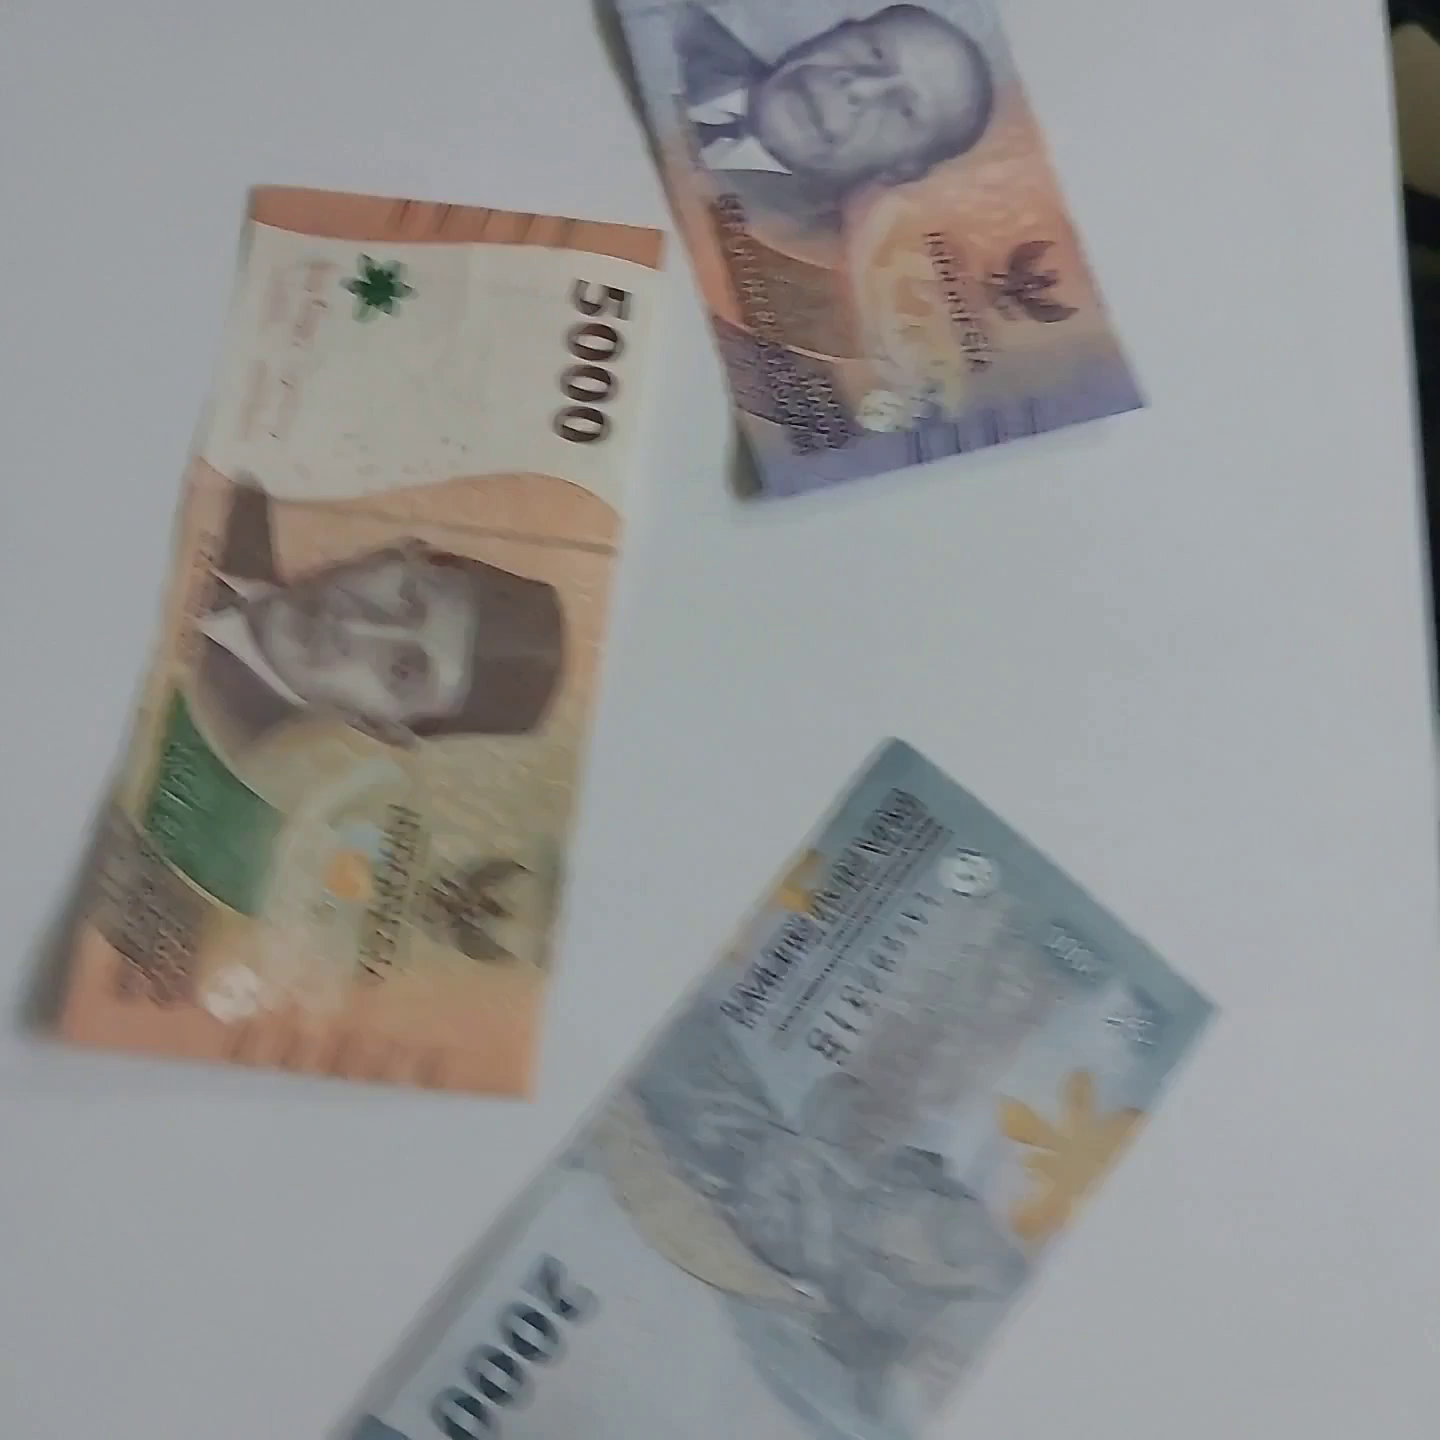10k: (593, 0, 1287, 562)
2k: (334, 731, 1274, 1437)
5k: (40, 187, 678, 1102)
